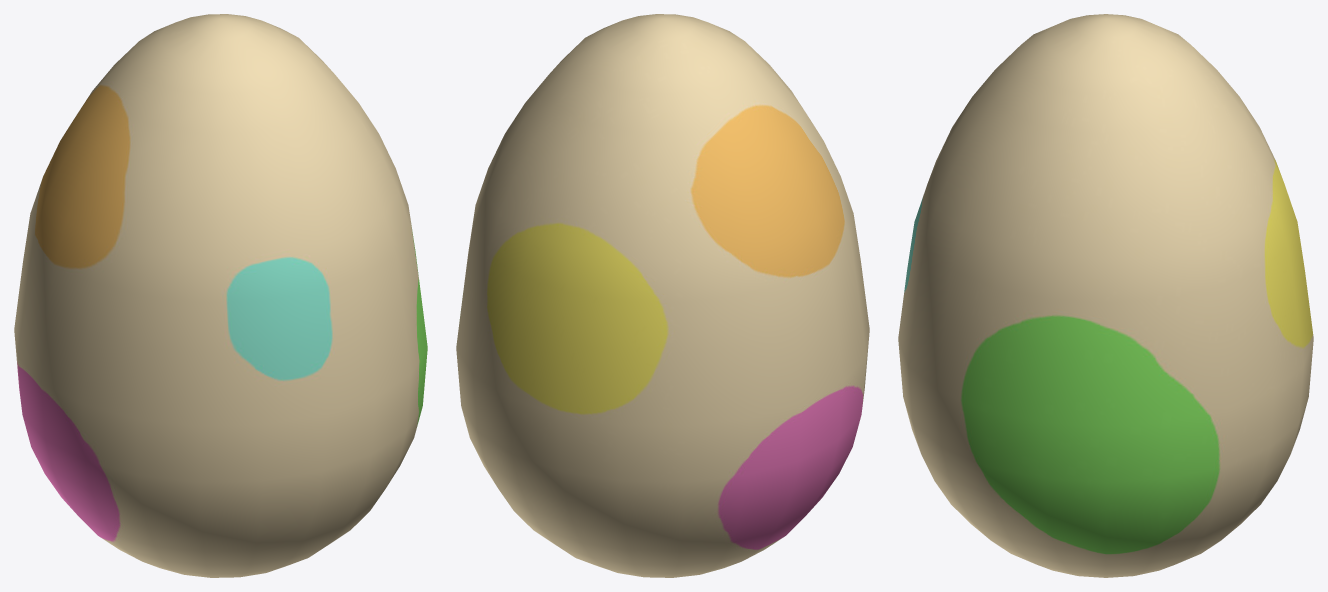
Rendered from Easter_egg.fbx.
3 views of the same model, side by side, from view 1: azimuth 30°, elevation 25°; view 2: azimuth 150°, elevation 25°; view 3: azimuth 270°, elevation 25° (orthographic).
Visible parts, largest first — view 1: pSphere1; view 2: pSphere1; view 3: pSphere1.
Boxes of the visible parts, x1,y1,x2,y2 form: pSphere1: (14,14,427,577); pSphere1: (456,14,869,577); pSphere1: (898,14,1313,577).
Bounding box in the file's own units: 5.71 × 8.23 × 5.71.
1 material, 1 textured.
